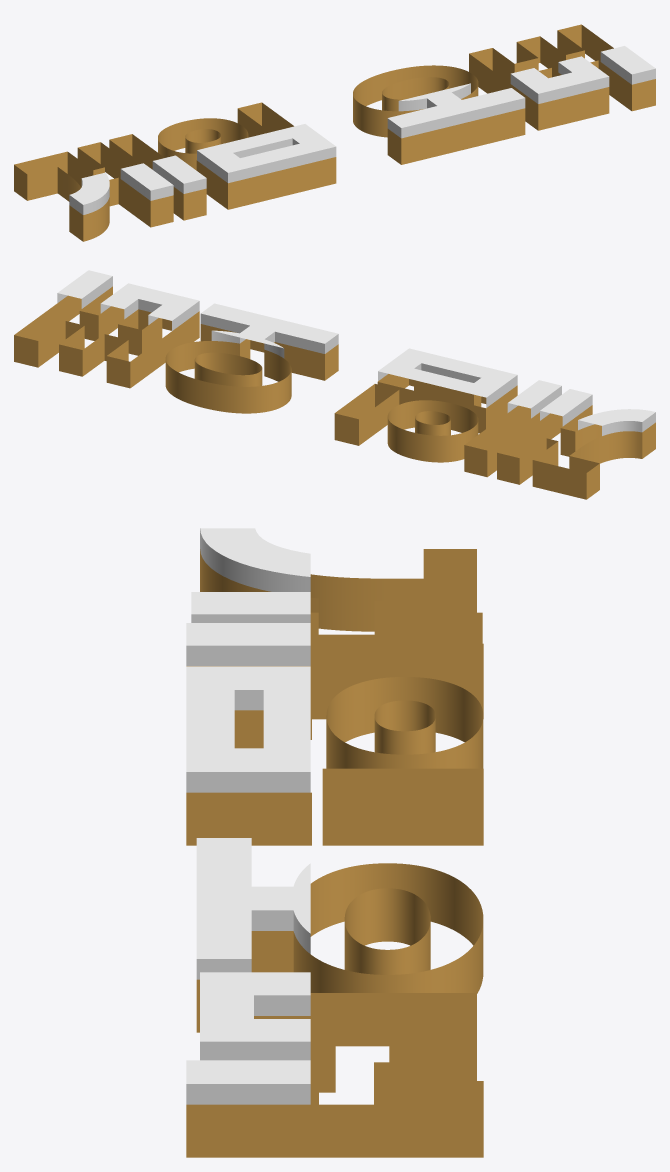
The model's file is over2.FBX.
The picture shows the model from 3 angles, top to bottom: view 1: azimuth 30°, elevation 25°; view 2: azimuth 150°, elevation 25°; view 3: azimuth 270°, elevation 25°; orthographic projection. The views are drawn at different scales.
Visible parts, largest first — view 1: Text012; view 2: Text012; view 3: Text012.
Boxes of the visible parts, x1,y1,x2,y2 form: Text012: (14,24,655,241); Text012: (14,270,655,499); Text012: (186,528,483,1157).
Size of the model in its own units: 6.4 by 0.3966 by 1.45.
